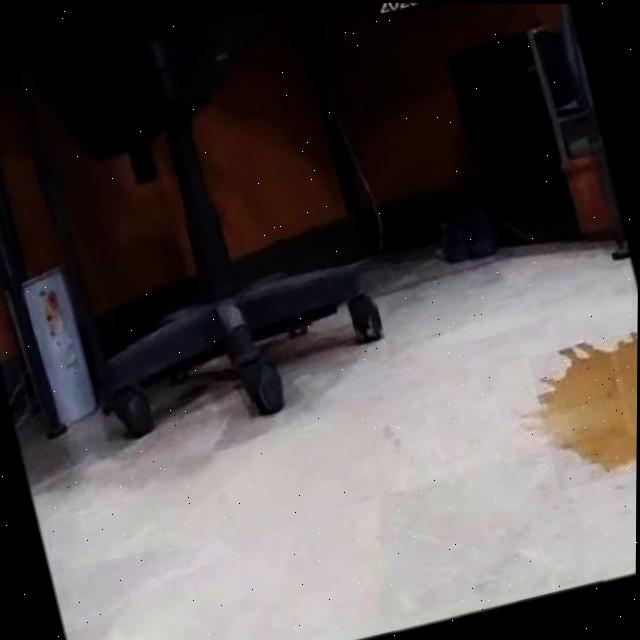spillage: (542, 334, 638, 470)
